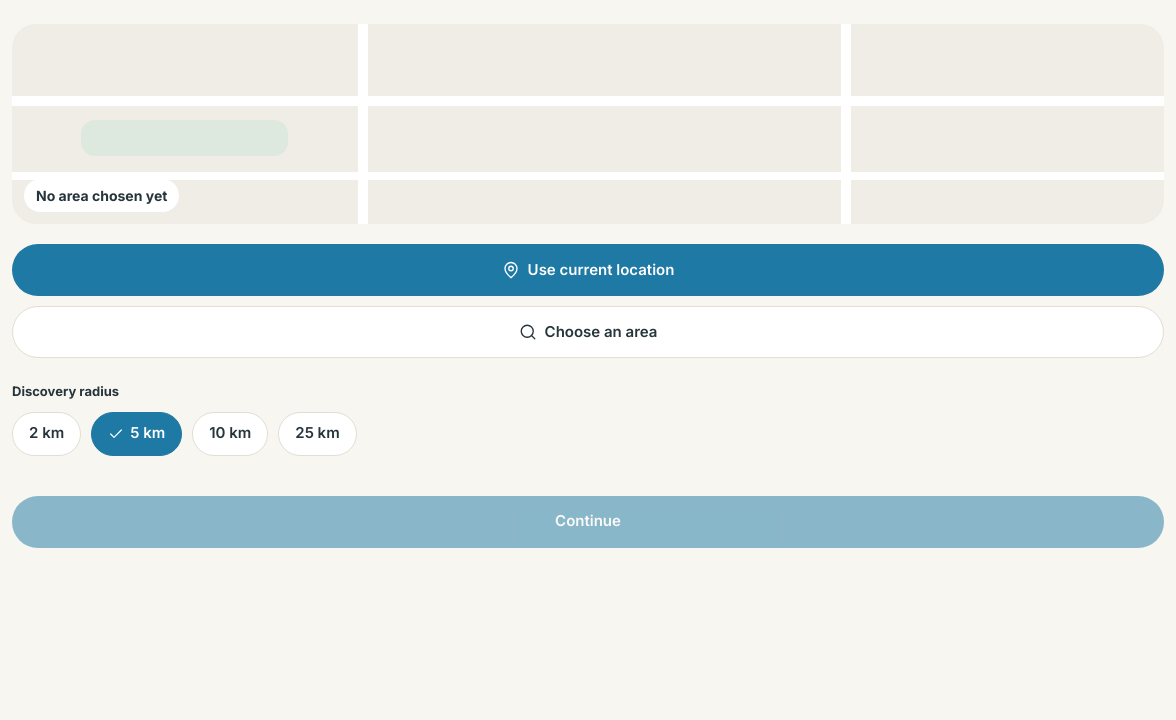
S06 LocationStep › explains before asking, then snaps current location to a neighbourhood
Expected: the button "Continue" is disabled, [12,496,1164,548]
Click the button "Use current location" at (588, 270), box [12,244,1164,296]
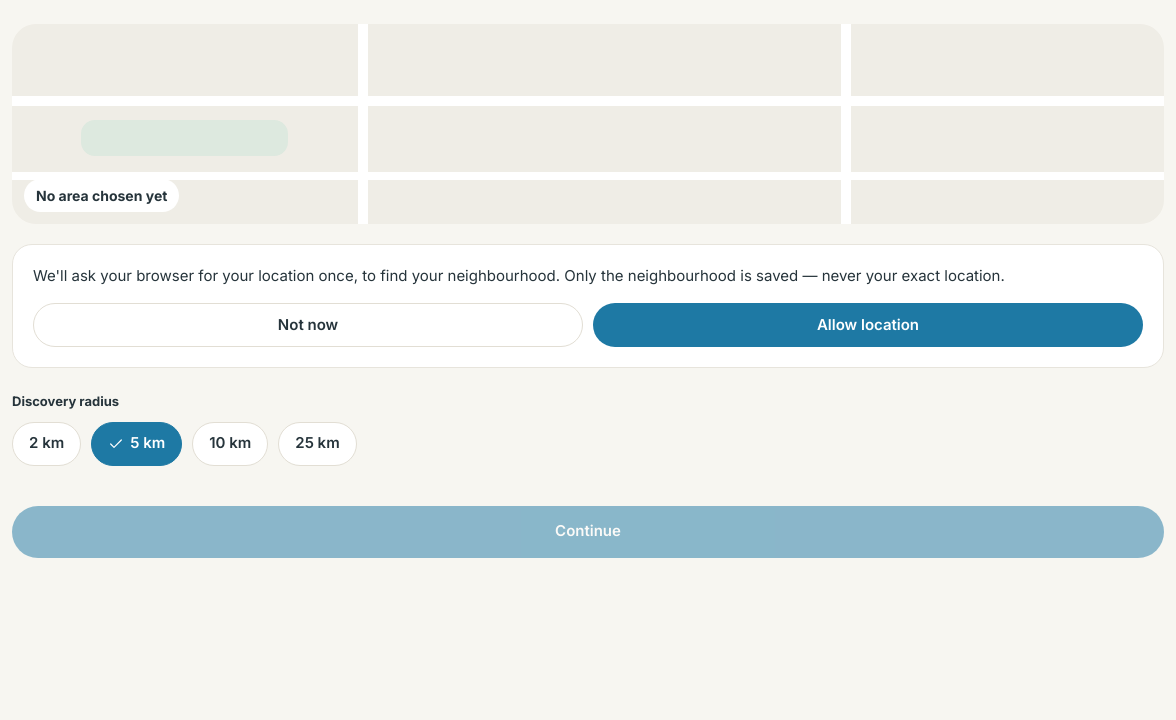
Expected: the text "never your exact location" is shown, [33,266,1005,285]
Click the button "Allow location" at (868, 325), box [593,303,1143,347]
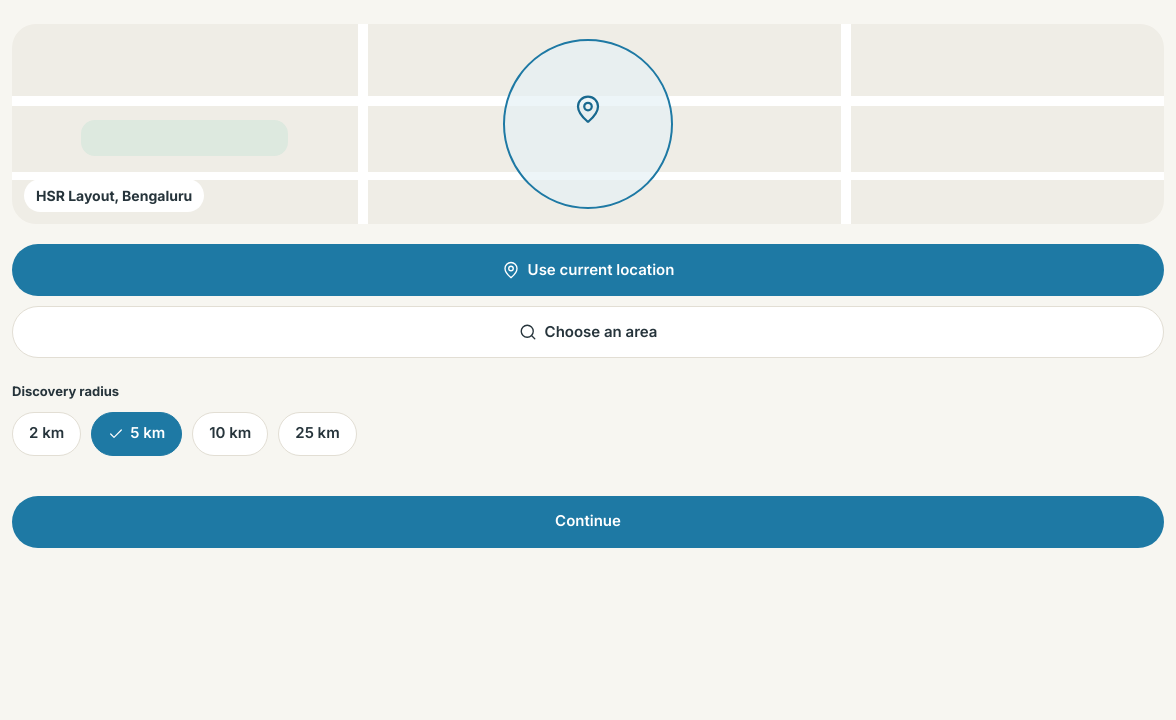
Expected: the picture named "HSR Layout, Bengaluru, within 5 km" is shown, [12,24,1164,224]
Expected: the button "Continue" is enabled, [12,496,1164,548]
